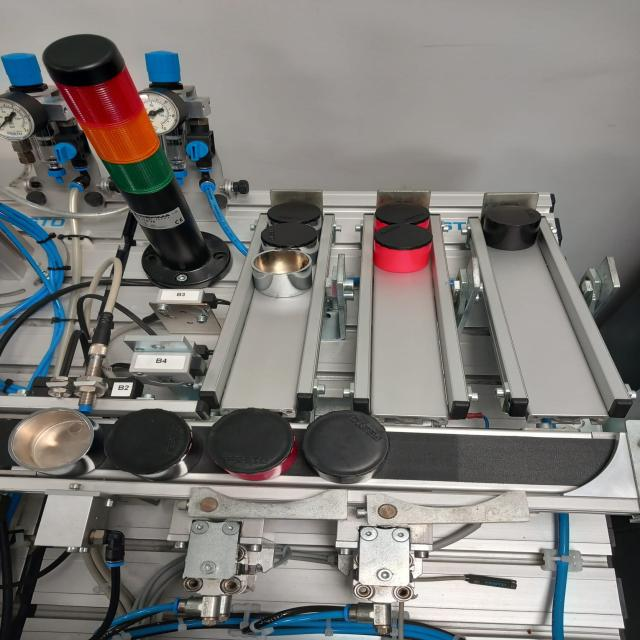NoLid: (9, 406, 96, 481), (258, 253, 314, 290)
Workpiece: (100, 403, 202, 481), (207, 402, 300, 482), (305, 402, 394, 484), (484, 206, 549, 250), (376, 224, 434, 273), (263, 198, 330, 228), (260, 224, 320, 253), (372, 200, 430, 227)
